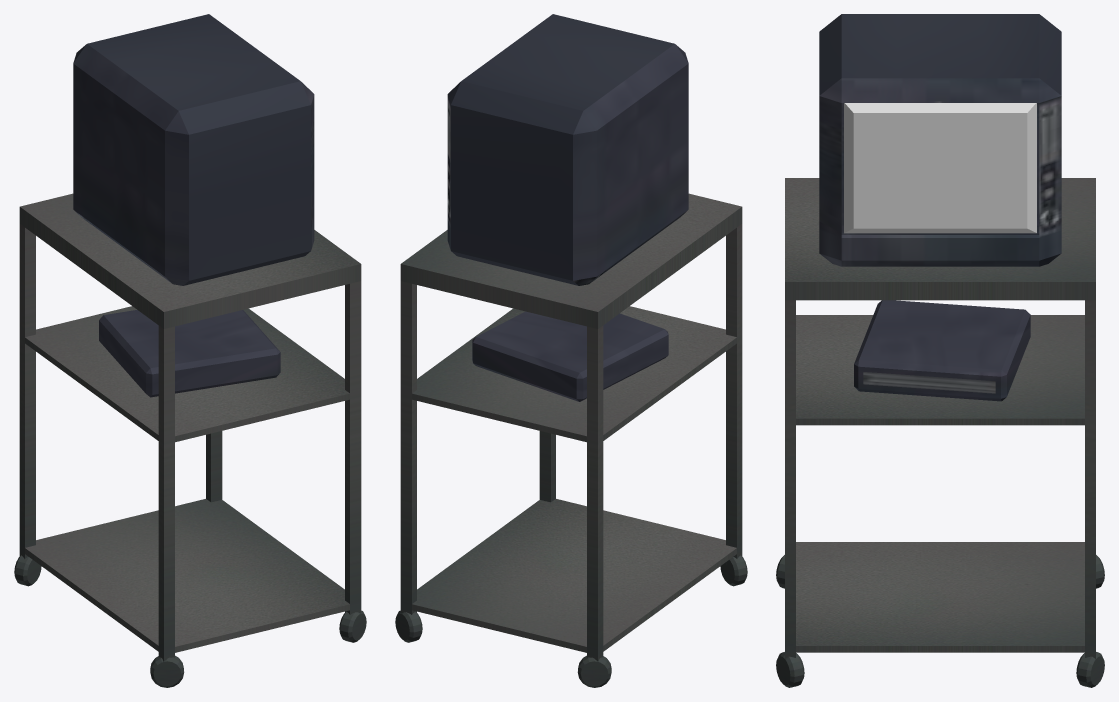
File: tvwheelsWithEmission.fbx
The picture shows the model from 3 angles, left to right: view 1: azimuth 30°, elevation 25°; view 2: azimuth 150°, elevation 25°; view 3: azimuth 270°, elevation 25°; orthographic projection. The views are drawn at different scales.
Parts seen in each view (by area): view 1: TVstand, TV; view 2: TVstand, TV; view 3: TVstand, TV.
Boxes of the visible parts, x1,y1,x2,y2 form: TVstand: [14, 193, 366, 687]; TV: [73, 14, 314, 397]; TVstand: [395, 193, 747, 687]; TV: [447, 14, 688, 401]; TVstand: [776, 178, 1104, 687]; TV: [819, 14, 1061, 401].
Size of the model in its own units: 2.52 by 6.14 by 3.09.
Materials: 3 (2 with a texture image).
